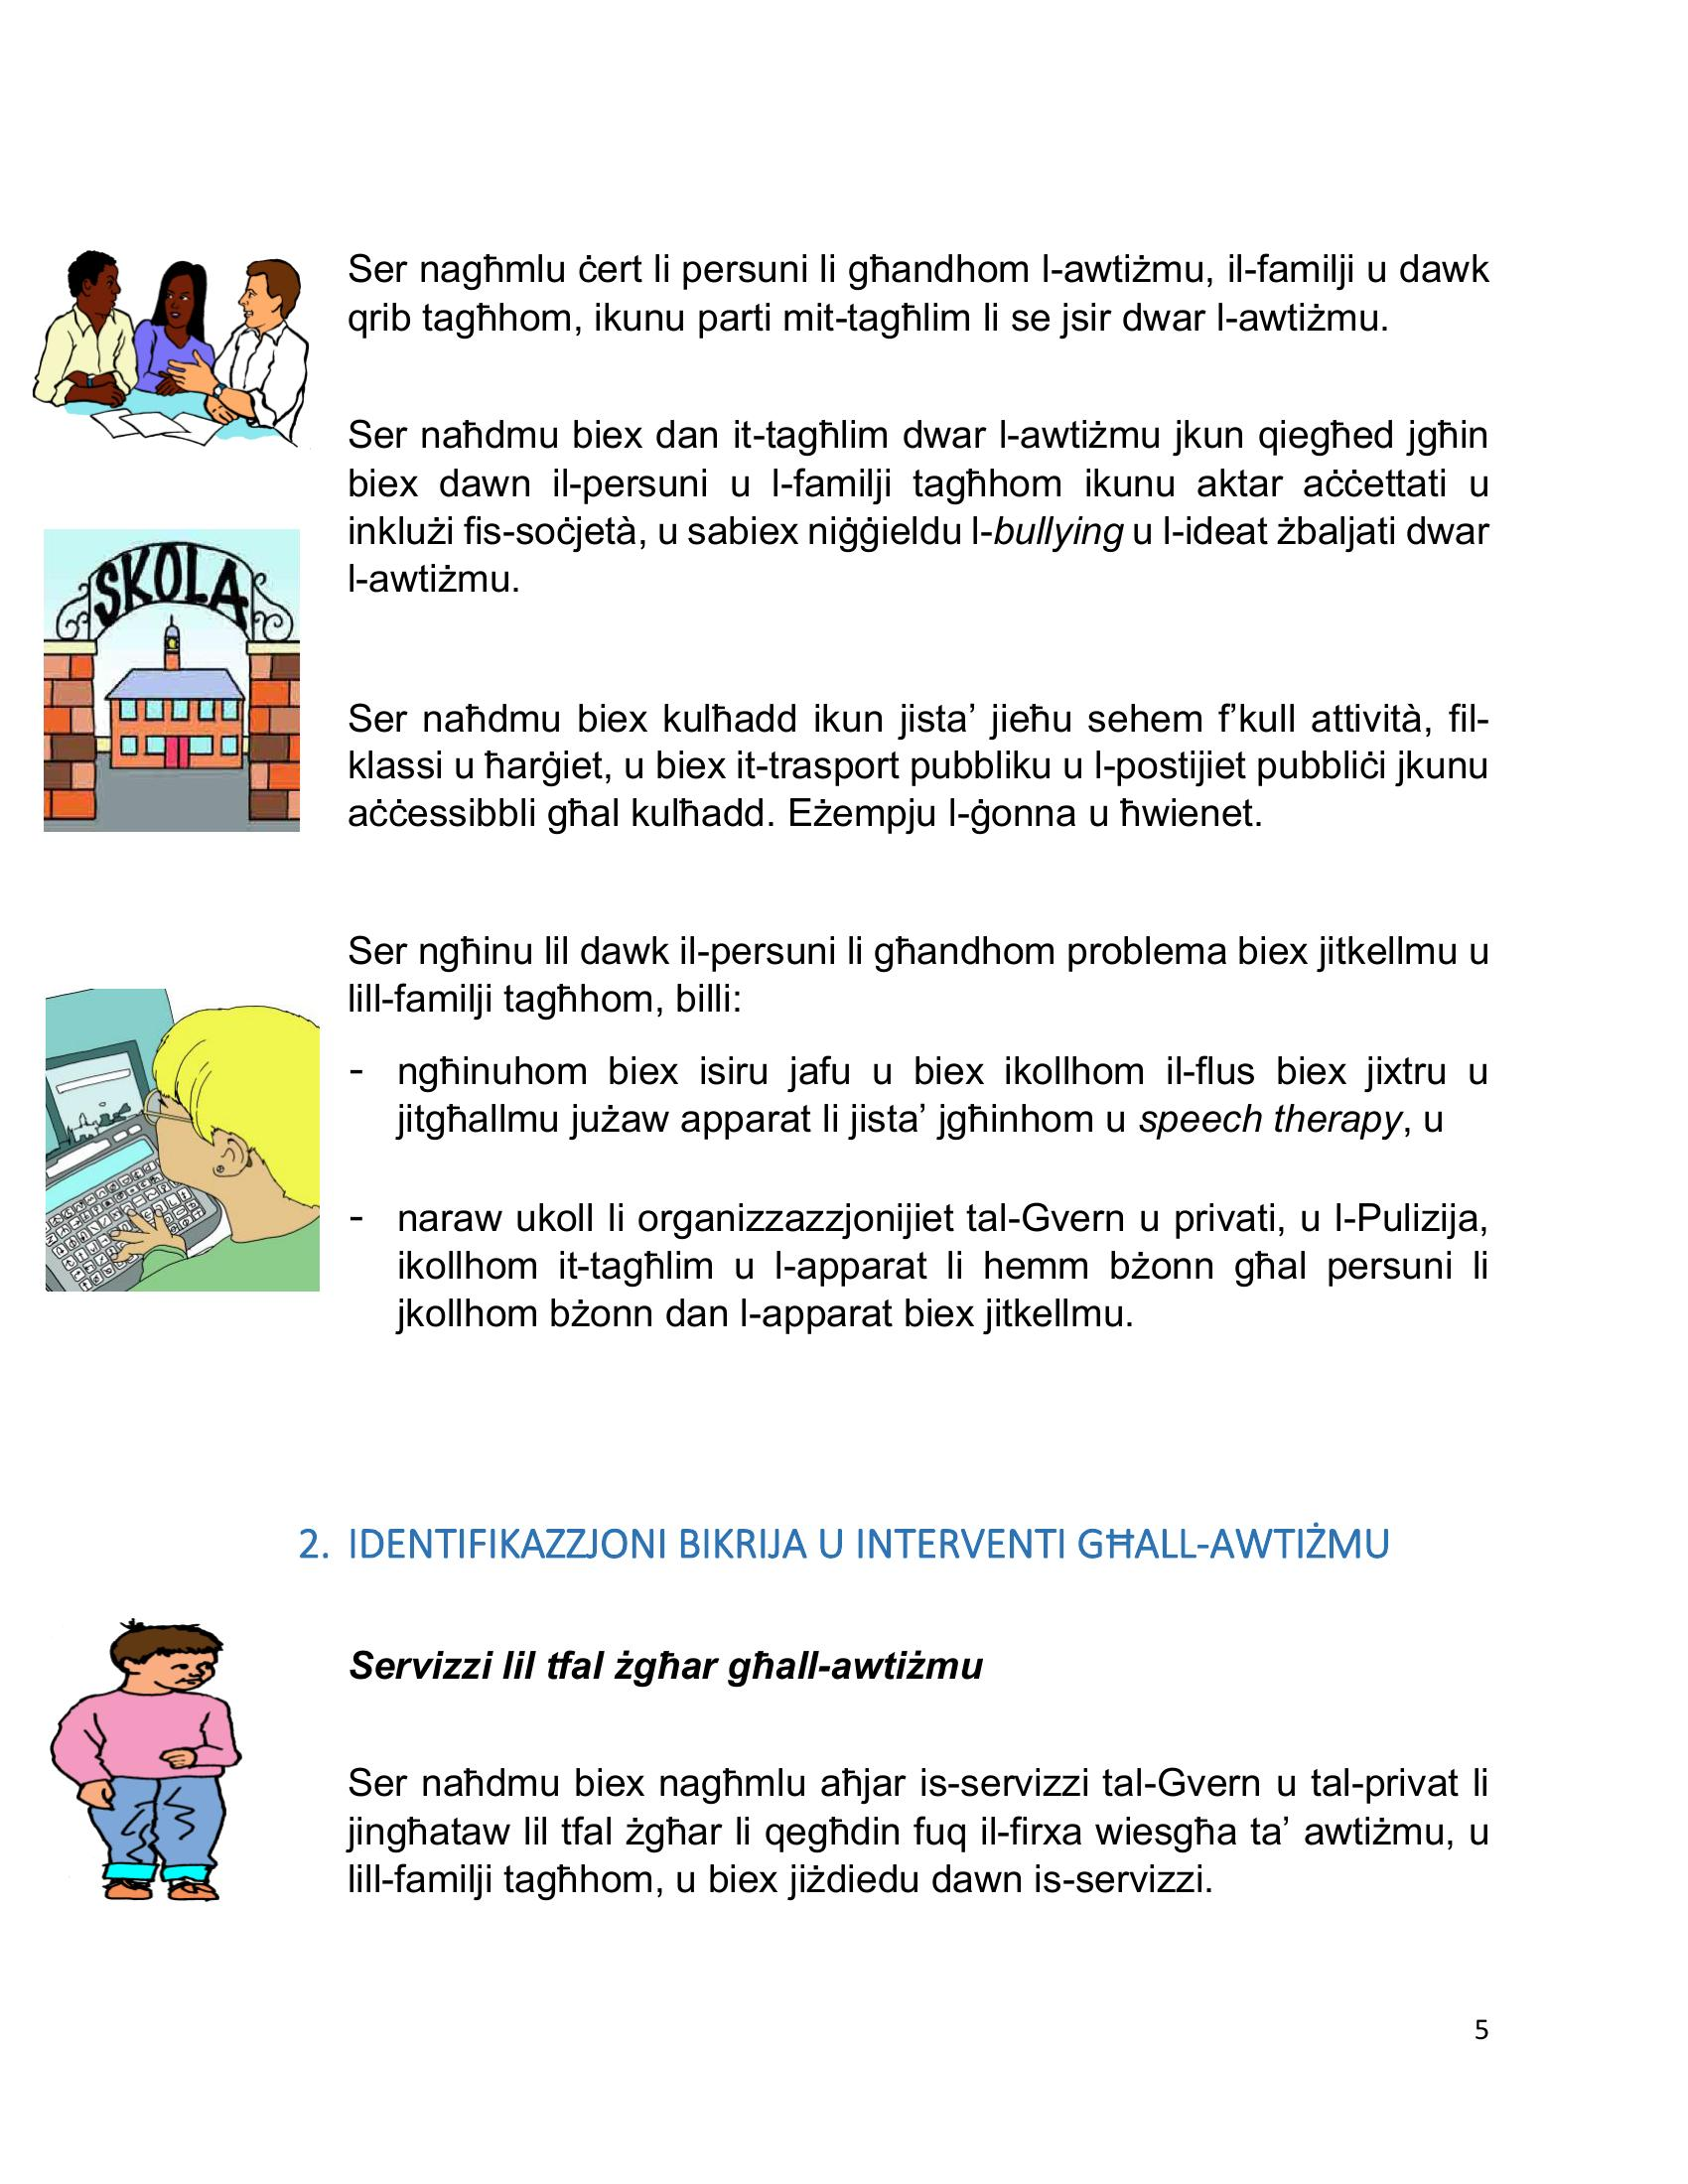text: (332, 236, 1516, 1356), (268, 1501, 1504, 1916)
